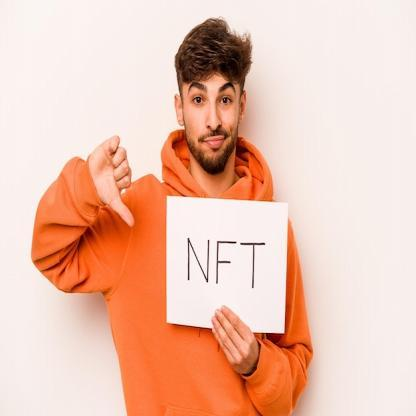thumb_down: (87, 132, 139, 233)
